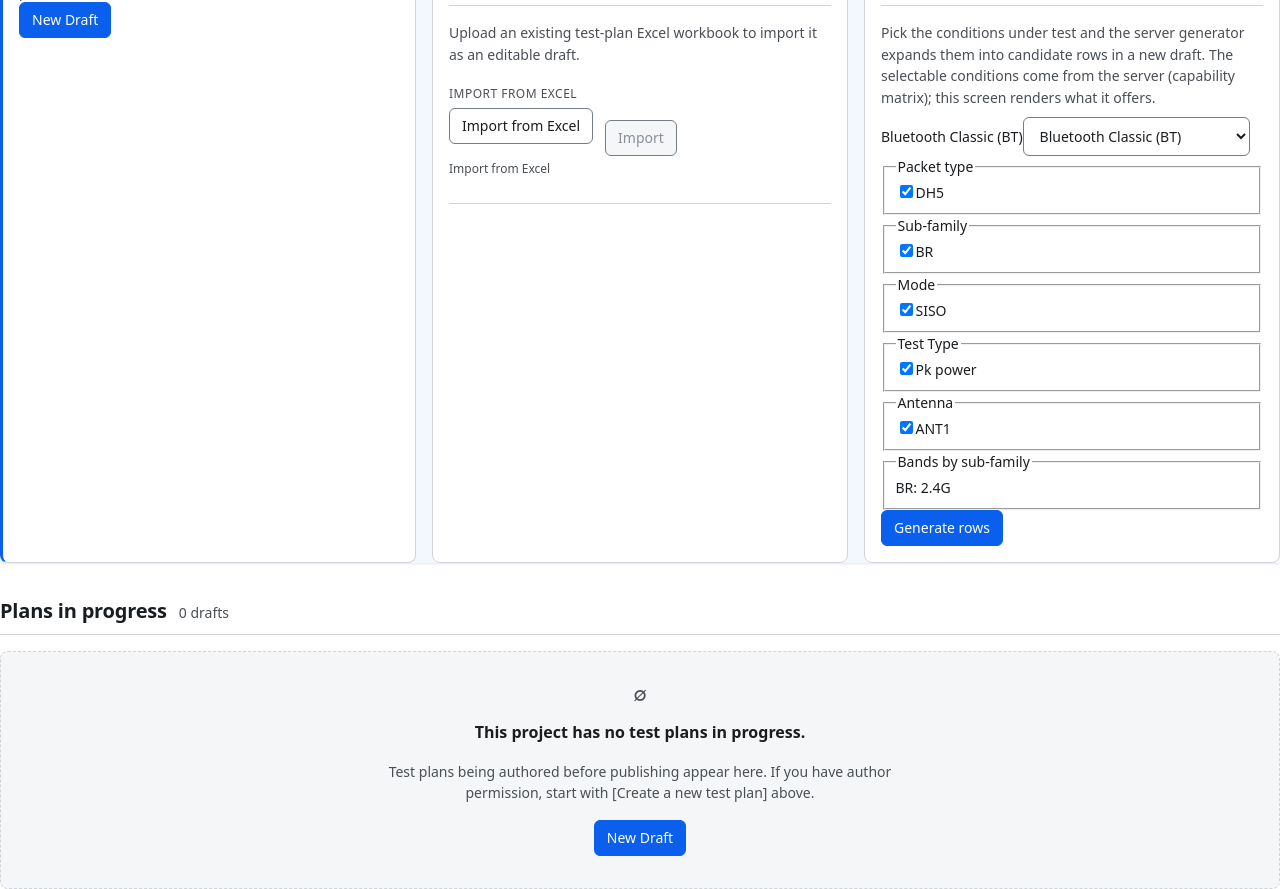
Test: current generation API cutover › falls back to the generator copy for a 400 the server could not pin down
This screenshot has width=1280, height=889.
(page scrolled)
Expected: the form with test id "test-plans-generator-form" is shown, [881,117,1263,546]
Click the button with test id "test-plans-generator-submit" at (942, 528), box [881,510,1003,546]
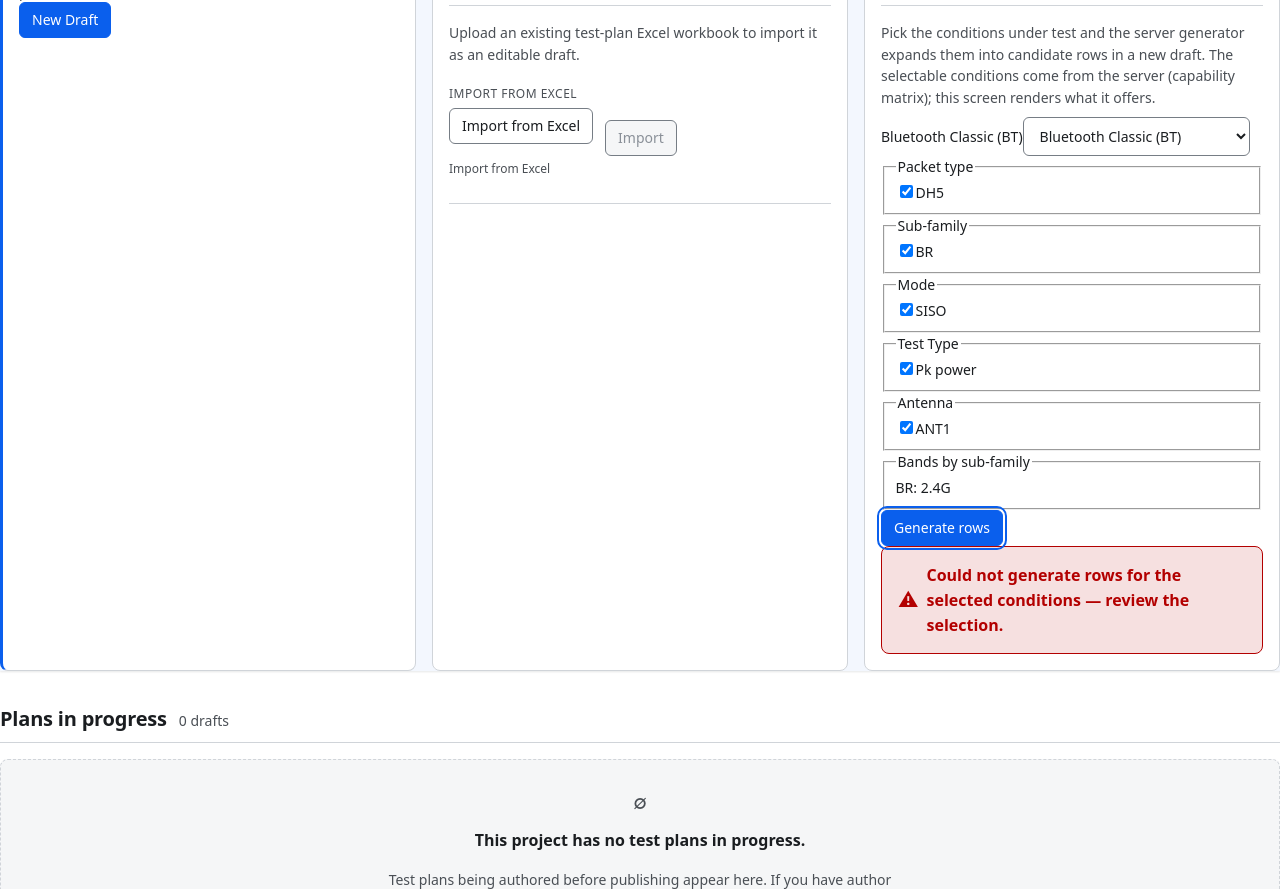
Expected: the message with test id "test-plans-generator-error" does not show "The request failed.", [881,546,1263,654]
Now the message with test id "test-plans-generator-error" reads "Could not generate rows for the selected conditions — review the selection.", box [926,564,1189,636]
